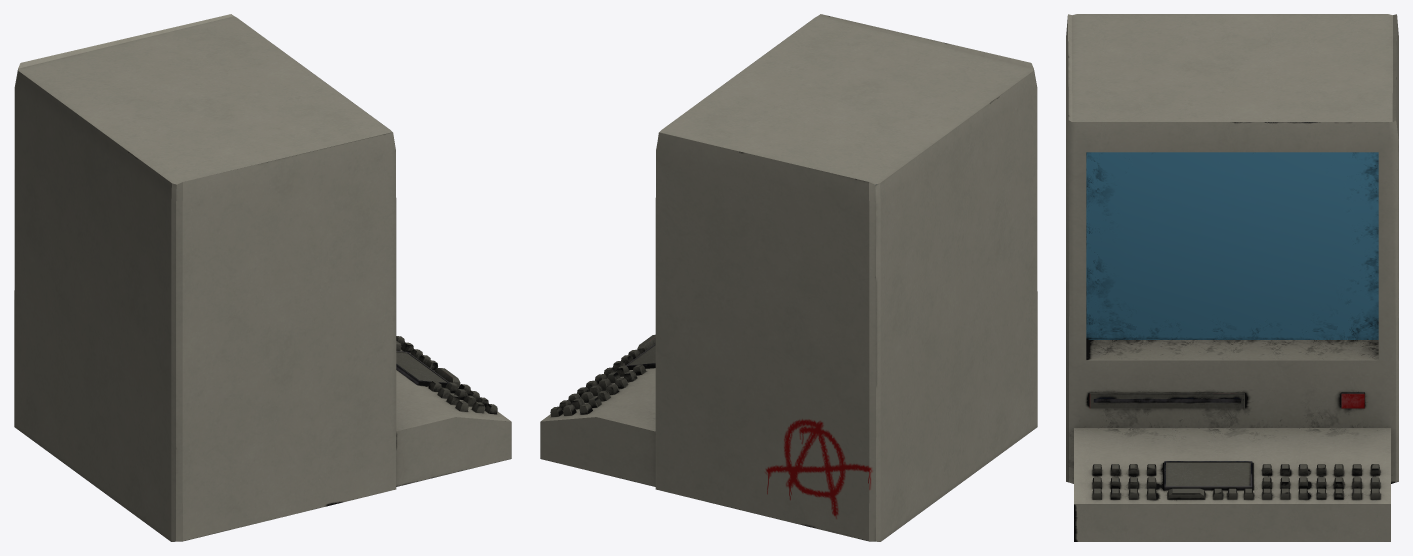
3 views of the same model, side by side, from view 1: azimuth 30°, elevation 25°; view 2: azimuth 150°, elevation 25°; view 3: azimuth 270°, elevation 25° (orthographic).
Parts seen in each view (by area): view 1: OldPC; view 2: OldPC; view 3: OldPC, Screen.
Part boxes in pixels (x1,y1,x2,y2): OldPC: (14, 14, 511, 541); OldPC: (540, 14, 1037, 541); OldPC: (1066, 14, 1398, 541); Screen: (1086, 152, 1378, 339).
Bounding box in the file's own units: 641 × 648 × 537.
Materials: 1 (1 with a texture image).
